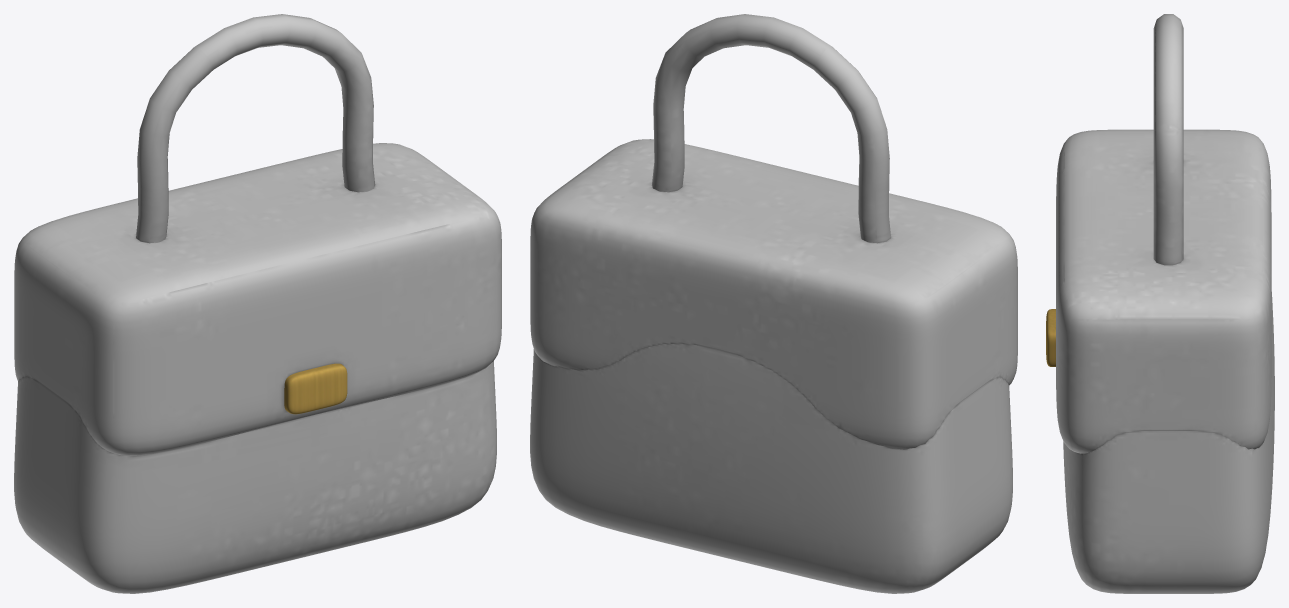
File: flap-black.glb
The picture shows the model from 3 angles, left to right: view 1: azimuth 30°, elevation 25°; view 2: azimuth 150°, elevation 25°; view 3: azimuth 270°, elevation 25°; orthographic projection. The views are drawn at different scales.
Visible parts, largest first — view 1: leather_primary, gold_hw; view 2: leather_primary; view 3: leather_primary, gold_hw.
Boxes of the visible parts, x1,y1,x2,y2 form: leather_primary: [14, 14, 501, 593]; gold_hw: [284, 363, 347, 414]; leather_primary: [530, 14, 1017, 593]; leather_primary: [1056, 14, 1274, 593]; gold_hw: [1046, 309, 1055, 366].
Bounding box in the file's own units: 0.2756 × 0.3271 × 0.1381.
Materials: 2 (2 with a texture image).
